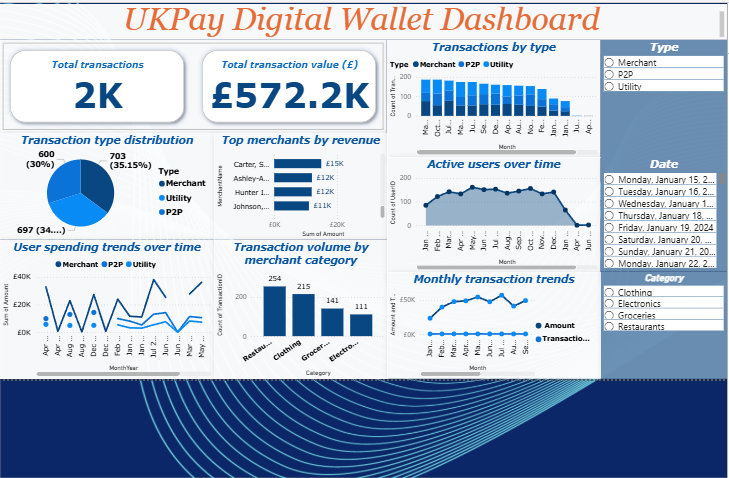

Layout of this report page (visuals, bound fields, positions):
{"tool":"powerbi","page":{"name":"Dashboard","canvas":[1280,720],"ordinal":3},"visuals":[{"type":"cardVisual","fields":{"Data":["CountNonNull(transactions.TransactionID)","Sum(transactions.Amount)"]},"box":[0,123.2,681.4,163.7],"z":0},{"type":"pieChart","title":"Transaction type distribution","fields":{"Y":["CountNonNull(transactions.TransactionID)"],"Category":["transactions.Type"]},"box":[0,287,376.8,188.4],"z":1},{"type":"lineChart","title":"User spending trends over time","fields":{"Series":["transactions.Type"],"Y":["Sum(transactions.Amount)"],"Category":["transactions.MonthYear"]},"box":[0,475.4,376.8,244.7],"z":3},{"type":"clusteredBarChart","title":"Top merchants by revenue","fields":{"Category":["merchants.MerchantName"],"Y":["Sum(transactions.Amount)"]},"box":[376.3,287.2,305.7,188.1],"z":4},{"type":"columnChart","title":"Transaction volume by merchant category","fields":{"Category":["merchants.Category"],"Y":["CountNonNull(transactions.TransactionID)"]},"box":[376.3,475.4,305.7,245.2],"z":5},{"type":"columnChart","title":"Transactions by type","fields":{"Category":["transactions.Month"],"Y":["CountNonNull(transactions.TransactionID)"],"Series":["transactions.Type"]},"box":[682,122.6,376.3,206.6],"z":6},{"type":"areaChart","title":"Active users over time","fields":{"Category":["transactions.Month"],"Y":["Count(transactions.UserID)"]},"box":[682,329.2,376.3,203.3],"z":7},{"type":"lineChart","title":"Monthly transaction trends","fields":{"Category":["transactions.Month"],"Y":["Sum(transactions.Amount)","CountNonNull(transactions.TransactionID)"]},"box":[682,532.5,376.3,183.1],"z":8},{"type":"textbox","box":[0,59.9,1280,63.4],"z":9},{"type":"listSlicer","fields":{"Values":["transactions.Date"]},"box":[1058.2,329.2,221.8,202.5],"z":11},{"type":"listSlicer","fields":{"Values":["transactions.Type"]},"box":[1058.2,123.2,221.8,206],"z":12},{"type":"listSlicer","fields":{"Values":["merchants.Category"]},"box":[1058.2,531.7,221.8,183.1],"z":13}]}

Visuals, with their boxes on the page's 1280x720 design canvas (x1, y1, x2, y2). These are canvas units, not pixel positions in the 729x478 screenshot, which may show the page scaled, cropped or inside an application window:
cardVisual - CountNonNull(transactions.TransactionID) x Sum(transactions.Amount): 0:123:681:287
"Transaction type distribution" pieChart: 0:287:377:475
"User spending trends over time" lineChart: 0:475:377:720
"Top merchants by revenue" clusteredBarChart: 376:287:682:475
"Transaction volume by merchant category" columnChart: 376:475:682:721
"Transactions by type" columnChart: 682:123:1058:329
"Active users over time" areaChart: 682:329:1058:532
"Monthly transaction trends" lineChart: 682:532:1058:716
textbox: 0:60:1280:123
listSlicer - transactions.Date: 1058:329:1280:532
listSlicer - transactions.Type: 1058:123:1280:329
listSlicer - merchants.Category: 1058:532:1280:715
